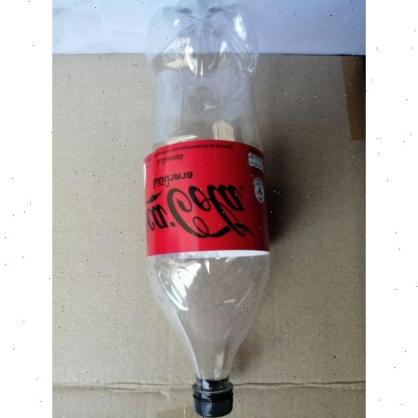bottle: (142, 0, 272, 417)
cap: (189, 383, 237, 418)
label: (144, 137, 274, 263)
